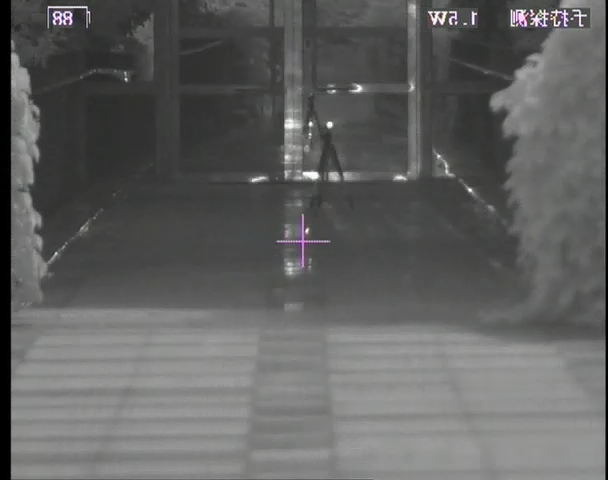my: (326, 121, 334, 129)
